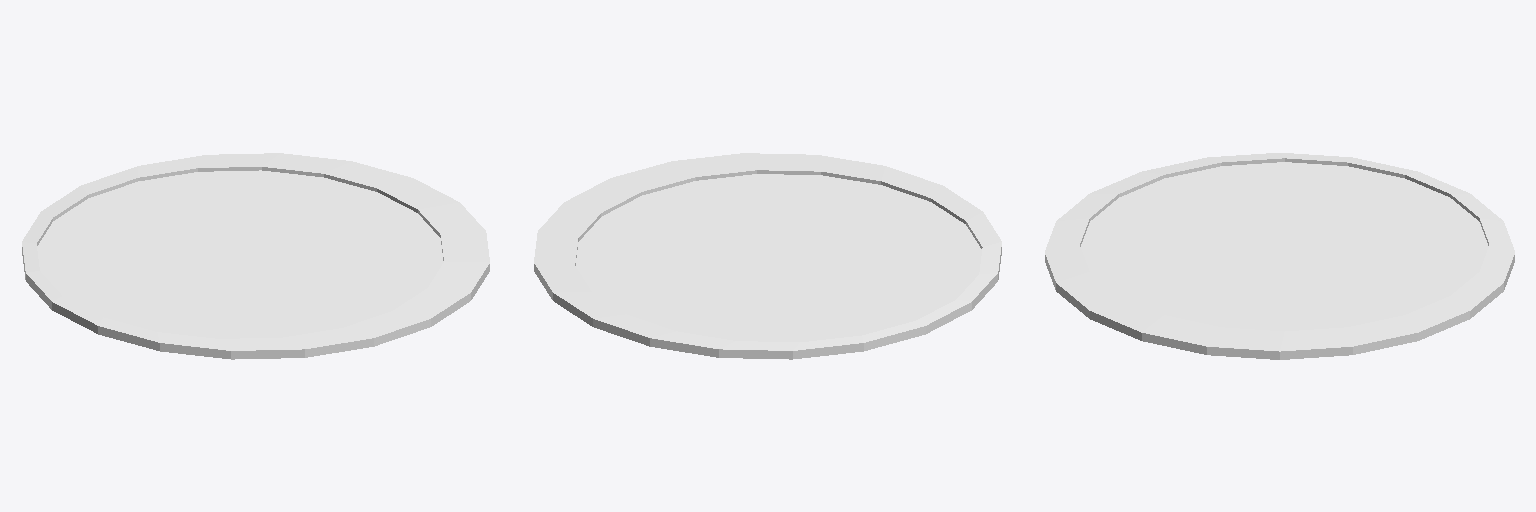
Rendered from Plate2.obj.
The picture shows the model from 3 angles: view 1: azimuth 30°, elevation 25°; view 2: azimuth 150°, elevation 25°; view 3: azimuth 270°, elevation 25°; orthographic projection.
Parts seen in each view (by area): view 1: Plate2; view 2: Plate2; view 3: Plate2.
Boxes of the visible parts, box(x1,y1,x2,y2) form: Plate2: box(22, 153, 489, 359); Plate2: box(534, 153, 1001, 359); Plate2: box(1045, 153, 1514, 359).
Size of the model in its own units: 1 by 0.0217 by 1.